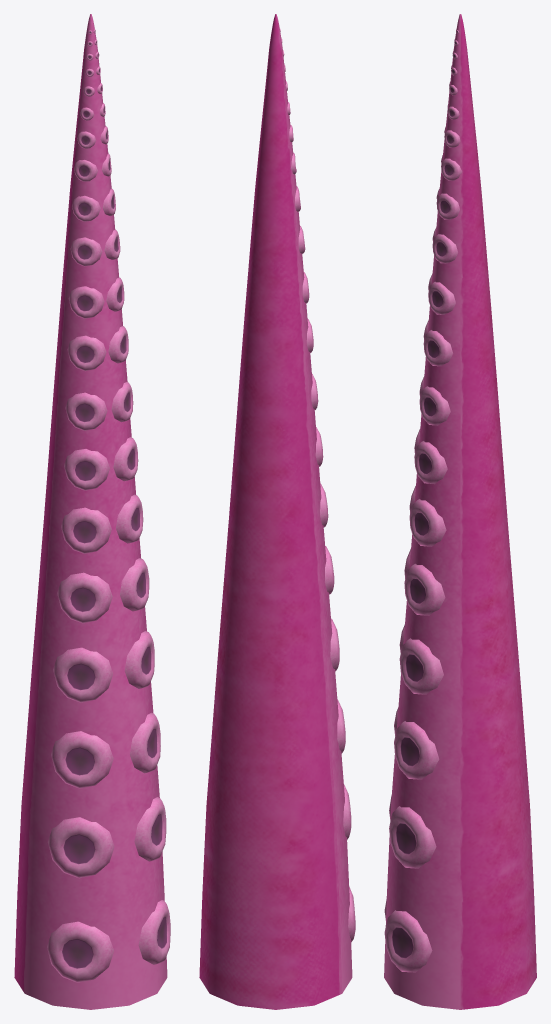
Rendered from kraken.fbx.
3 views of the same model, side by side, from view 1: azimuth 30°, elevation 25°; view 2: azimuth 150°, elevation 25°; view 3: azimuth 270°, elevation 25° (orthographic).
Visible parts, largest first — view 1: kraken; view 2: kraken; view 3: kraken.
Boxes of the visible parts, x1=… form: kraken: x1=14, y1=14, x2=170, y2=1009; kraken: x1=199, y1=14, x2=355, y2=1009; kraken: x1=384, y1=14, x2=536, y2=1009.
Size of the model in its own units: 242 by 1682 by 242.
